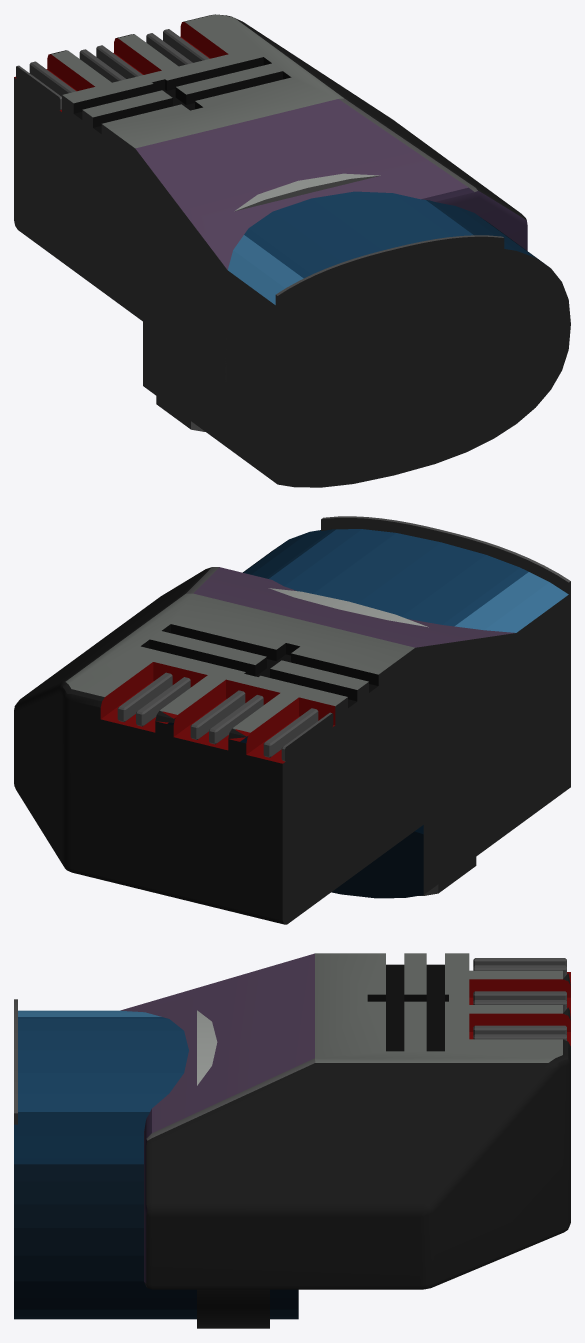
The model's file is camanis_boss_4.glb.
The picture shows the model from 3 angles, top to bottom: view 1: azimuth 30°, elevation 25°; view 2: azimuth 150°, elevation 25°; view 3: azimuth 270°, elevation 25°; orthographic projection. The views are drawn at different scales.
Visible parts, largest first — view 1: camanis_boss_4; view 2: camanis_boss_4; view 3: camanis_boss_4.
Part boxes in pixels (left/top/right/bottom): camanis_boss_4: left=14, top=14, right=570, bottom=487; camanis_boss_4: left=14, top=516, right=570, bottom=924; camanis_boss_4: left=14, top=953, right=570, bottom=1328.
Bounding box in the file's own units: 18.9 × 14.85 × 27.4.
